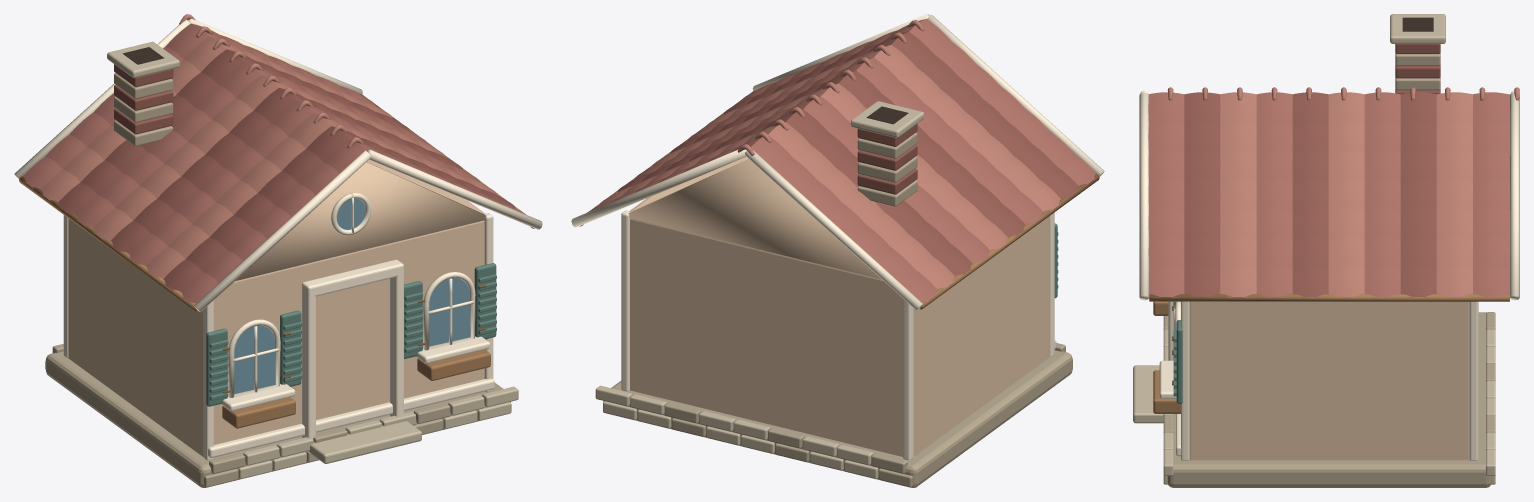
File: cottage.glb
The picture shows the model from 3 angles, left to right: view 1: azimuth 30°, elevation 25°; view 2: azimuth 150°, elevation 25°; view 3: azimuth 270°, elevation 25°; orthographic projection. The views are drawn at different scales.
Visible parts, largest first — view 1: Lime plaster walls, Plaster gable.001, Foundation, Front sill trim, Door threshold, Gable fascia.001, Arched glazing, Arched glazing.001, Door jamb, Door jamb.001, Gable fascia.003, Door lintel (+87 smaller); view 2: Lime plaster walls, Plaster gable, Foundation, Gable fascia, Gable fascia.002, Corner timber, Corner timber.002, Gable fascia.001, Chimney cap, Rain gutter, Gable fascia.003, Chimney brick course.001 (+67 smaller); view 3: Lime plaster walls, Foundation, Rain gutter.001, Gable fascia.003, Gable fascia.002, Corner timber.002, Door threshold, Corner timber.003, Chimney cap, Curved clay shingle.077, Curved clay shingle.075, Curved clay shingle.078 (+75 smaller).
Boxes of the visible parts, box(x1,y1,x2,y2) form: Lime plaster walls: box(68, 159, 485, 456); Plaster gable.001: box(235, 162, 485, 280); Foundation: box(46, 351, 510, 487); Front sill trim: box(208, 378, 494, 457); Door threshold: box(309, 421, 421, 463); Gable fascia.001: box(194, 150, 370, 312); Arched glazing: box(234, 325, 275, 393); Arched glazing.001: box(429, 277, 470, 346); Door jamb: box(302, 290, 315, 438); Door jamb.001: box(390, 271, 403, 416); Gable fascia.003: box(367, 149, 542, 229); Door lintel: box(302, 259, 403, 296); Lime plaster walls: box(629, 156, 1049, 456); Plaster gable: box(628, 159, 881, 279); Foundation: box(603, 350, 1072, 487); Gable fascia: box(745, 149, 922, 310); Gable fascia.002: box(571, 149, 746, 227); Corner timber: box(903, 299, 913, 459); Corner timber.002: box(621, 210, 630, 391); Gable fascia.001: box(927, 15, 1104, 176); Chimney cap: box(851, 101, 924, 137); Rain gutter: box(919, 173, 1099, 309); Gable fascia.003: box(752, 14, 929, 90); Chimney brick course.001: box(857, 168, 917, 194); Lime plaster walls: box(1189, 301, 1469, 460); Foundation: box(1167, 312, 1491, 487); Rain gutter.001: box(1149, 294, 1509, 301); Gable fascia.003: box(1139, 92, 1149, 300); Gable fascia.002: box(1510, 92, 1519, 300); Corner timber.002: box(1469, 301, 1478, 460); Door threshold: box(1133, 365, 1163, 423); Corner timber.003: box(1181, 301, 1189, 460); Chimney cap: box(1390, 14, 1445, 43); Curved clay shingle.077: box(1220, 92, 1256, 124); Curved clay shingle.075: box(1292, 92, 1328, 124); Curved clay shingle.078: box(1184, 92, 1220, 124).
Size of the model in its own units: 5.83 by 5.32 by 5.47.
